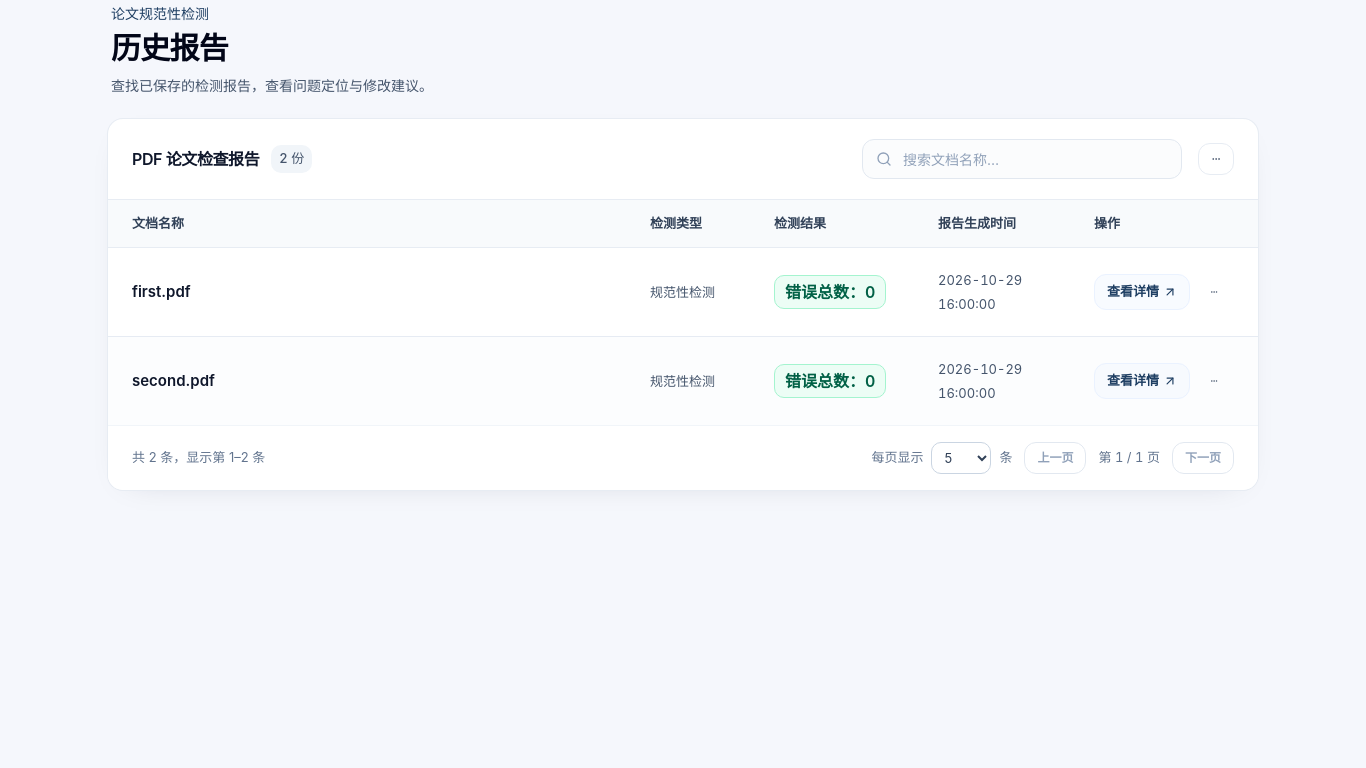
keeps reports when confirmation is declined or deletion fails
Expected: the link "first.pdf" is shown, [132, 282, 191, 301]
Click the button named "更多操作：first.pdf" at (1214, 292), box [1198, 276, 1230, 308]
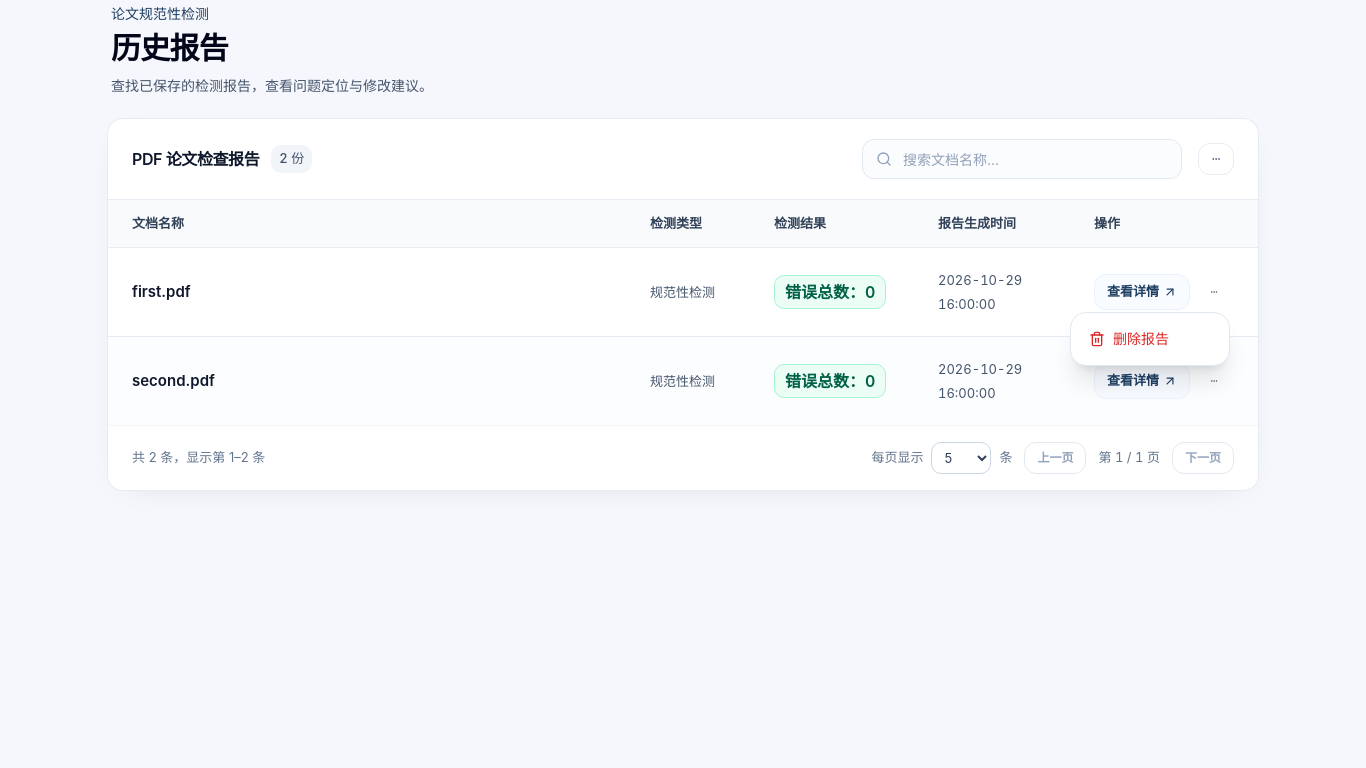
Click the menu item "删除报告" at (1129, 338), box [1089, 330, 1169, 347]
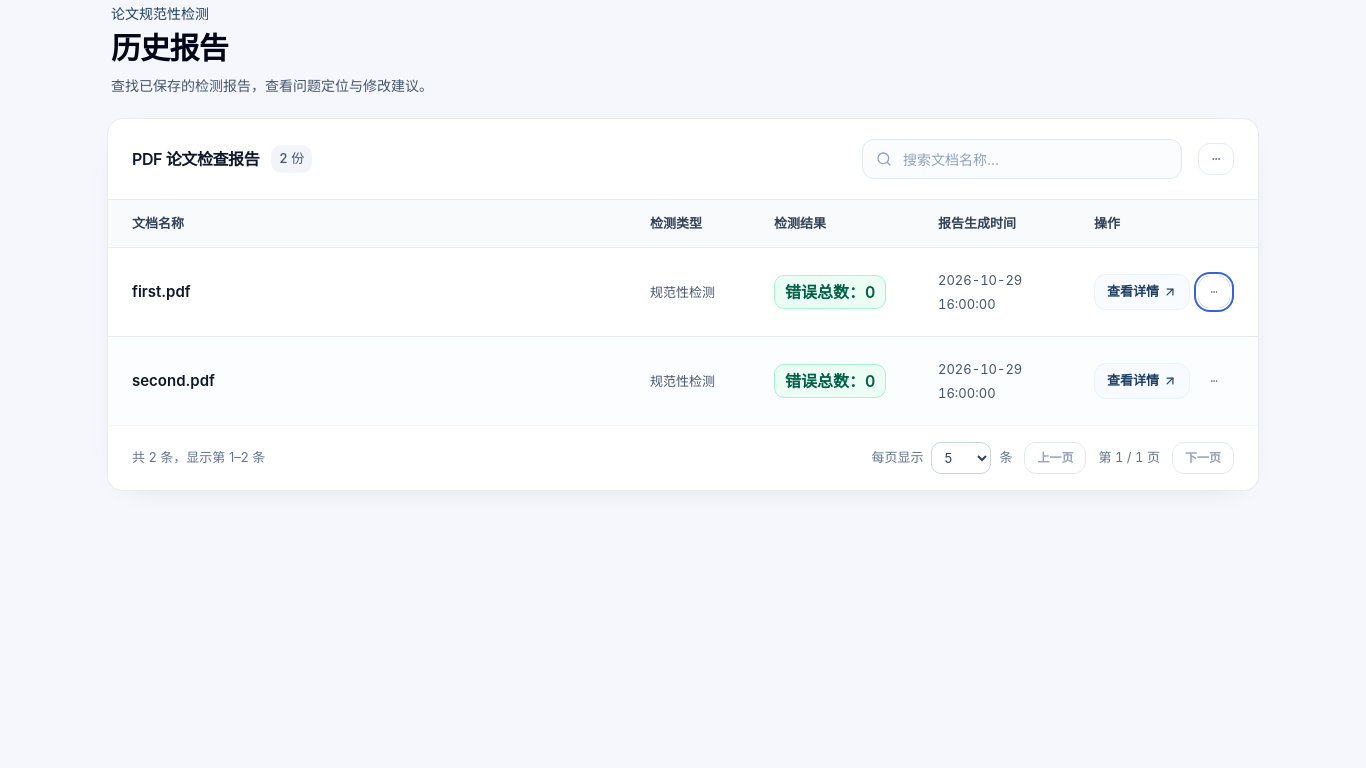
Click the button named "更多操作：first.pdf" at (1214, 292), box [1198, 276, 1230, 308]
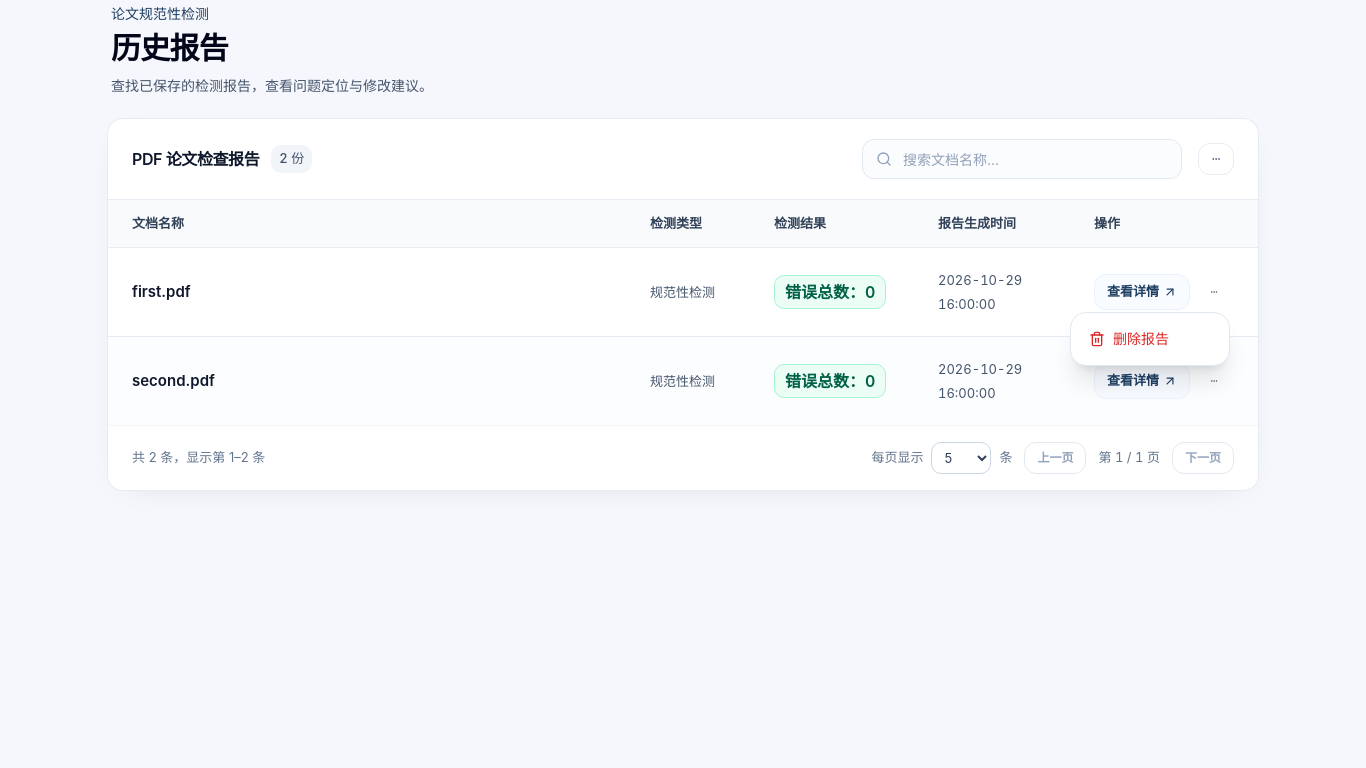
Click the menu item "删除报告" at (1129, 338), box [1089, 330, 1169, 347]
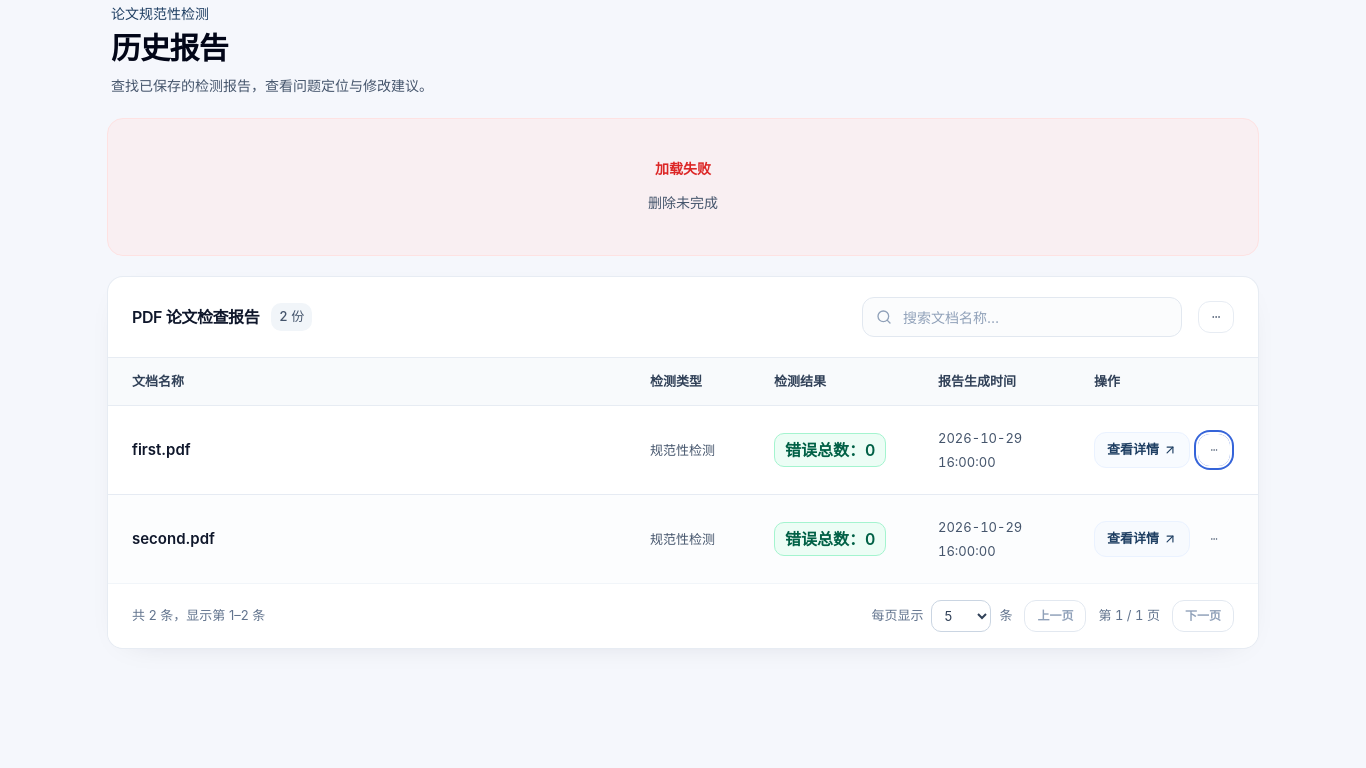
Expected: the link "first.pdf" is shown, [132, 440, 191, 459]
Expected: the text "删除未完成" is shown, [648, 191, 718, 215]
